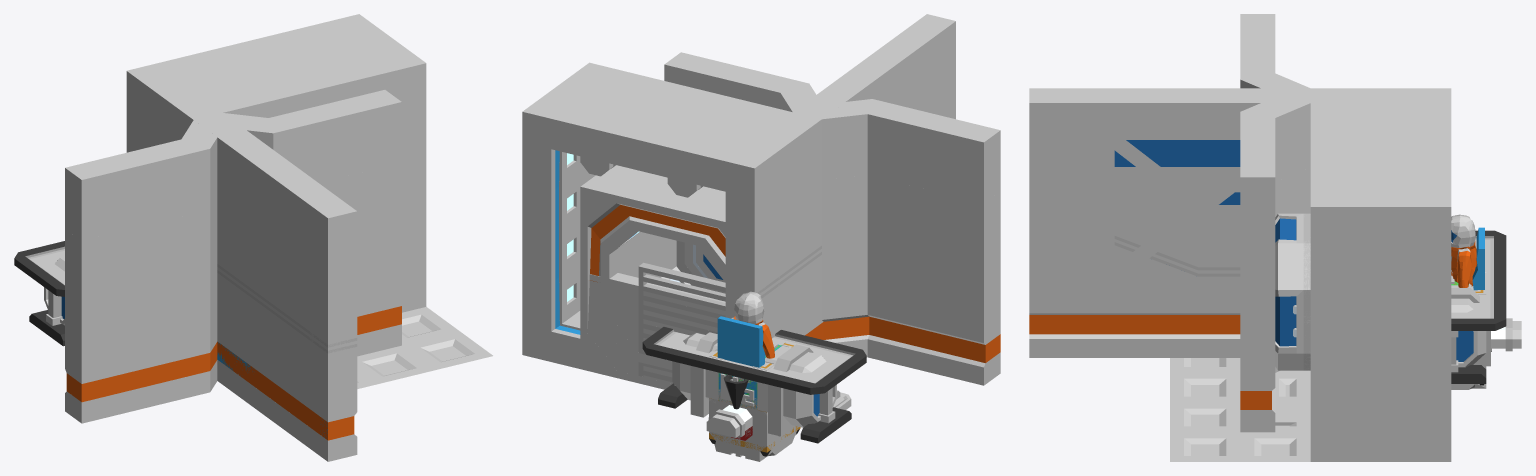
File: estacion.glb
The picture shows the model from 3 angles, left to right: view 1: azimuth 30°, elevation 25°; view 2: azimuth 150°, elevation 25°; view 3: azimuth 270°, elevation 25°; orthographic projection. The views are drawn at different scales.
Visible parts, largest first — view 1: Wall_M_corner_90_R_80, Wall_M_long_67, Gate_L_127, Wall_L_long_frame_92, Wall_L_corner_90_R_83, Wall_L_long_69, Wall_L_corner_90_L_77, Wall_M_corner_90_L_74, Floor_L_98, Table_44; view 2: Gate_L_127, Wall_M_corner_90_R_80, Gate_M_126, Wall_L_corner_90_R_83, Wall_L_long_frame_92, Wall_M_long_67, Table_44, Wall_L_long_69, Computer_41, Wall_L_corner_90_L_77, Vent_M_Grille_95, Wall_L_66 (+9 smaller); view 3: Gate_L_127, Wall_L_long_69, Wall_M_long_67, Floor_L_98, Wall_M_corner_90_L_74, Wall_L_long_frame_92, Wall_L_corner_90_L_77, Gate_M_hatch_Gate_Pivot_128, Table_44, Wall_L_long_window_93, Wall_L_corner_90_R_83, Spacesuite_full_4 (+7 smaller).
Boxes of the visible parts, <box> form: Wall_M_corner_90_R_80: <box>65,200,217,423</box>; Wall_M_long_67: <box>126,132,357,461</box>; Gate_L_127: <box>156,14,426,312</box>; Wall_L_long_frame_92: <box>126,64,357,460</box>; Wall_L_corner_90_R_83: <box>65,120,217,391</box>; Wall_L_long_69: <box>127,63,357,461</box>; Wall_L_corner_90_L_77: <box>223,90,401,182</box>; Wall_M_corner_90_L_74: <box>319,163,401,356</box>; Floor_L_98: <box>357,307,492,388</box>; Table_44: <box>14,241,64,346</box>; Gate_L_127: <box>522,62,792,368</box>; Wall_M_corner_90_R_80: <box>822,175,1000,385</box>; Gate_M_126: <box>580,165,725,389</box>; Wall_L_corner_90_R_83: <box>822,99,1000,367</box>; Wall_L_long_frame_92: <box>728,14,955,335</box>; Wall_M_long_67: <box>754,82,955,338</box>; Table_44: <box>642,327,866,443</box>; Wall_L_long_69: <box>726,14,954,269</box>; Computer_41: <box>587,273,725,383</box>; Wall_L_corner_90_L_77: <box>664,52,816,112</box>; Vent_M_Grille_95: <box>638,262,725,382</box>; Wall_L_66: <box>725,161,754,318</box>; Gate_L_127: <box>1310,103,1451,461</box>; Wall_L_long_69: <box>1029,88,1451,357</box>; Wall_M_long_67: <box>1029,167,1240,338</box>; Floor_L_98: <box>1170,358,1310,461</box>; Wall_M_corner_90_L_74: <box>1240,167,1310,432</box>; Wall_L_long_frame_92: <box>1029,88,1450,334</box>; Wall_L_corner_90_L_77: <box>1240,103,1310,412</box>; Gate_M_hatch_Gate_Pivot_128: <box>1275,213,1310,370</box>; Table_44: <box>1451,230,1506,383</box>; Wall_L_long_window_93: <box>1114,140,1240,204</box>; Wall_L_corner_90_R_83: <box>1240,14,1309,88</box>; Spacesuite_full_4: <box>1451,214,1476,287</box>.
Bounding box in the file's own units: 6.5 × 4.54 × 7.
